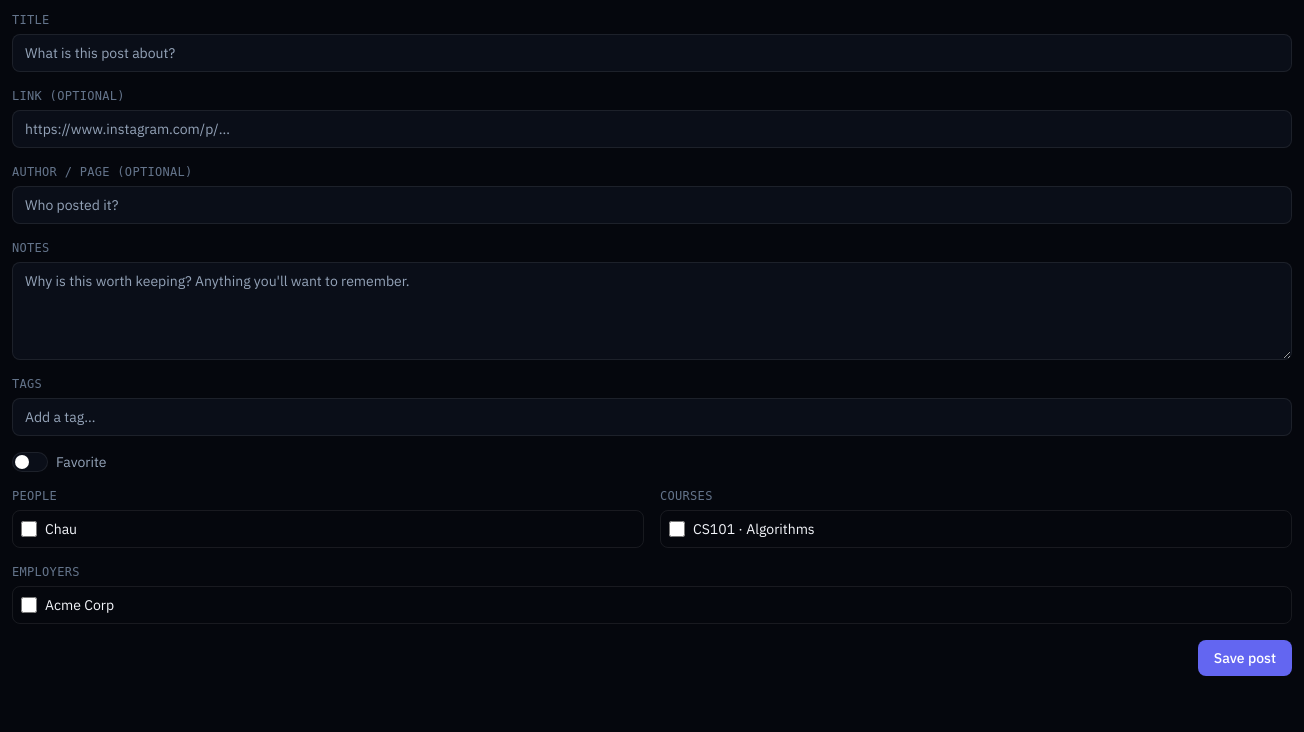
Scenario: PostForm › requires a title
Click the button "Save post": x=1245, y=658 [1198, 640, 1292, 676]
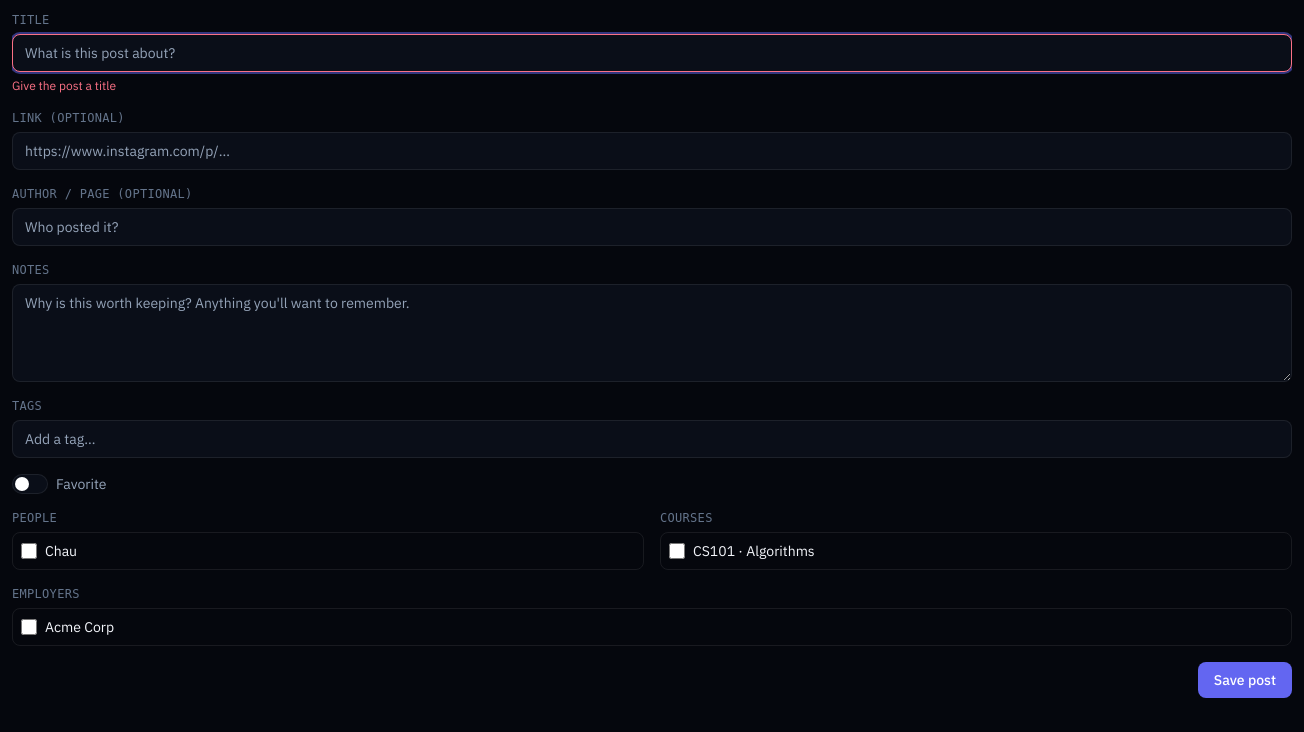
Result: the text "Give the post a title" is shown at [12, 78, 116, 93]
